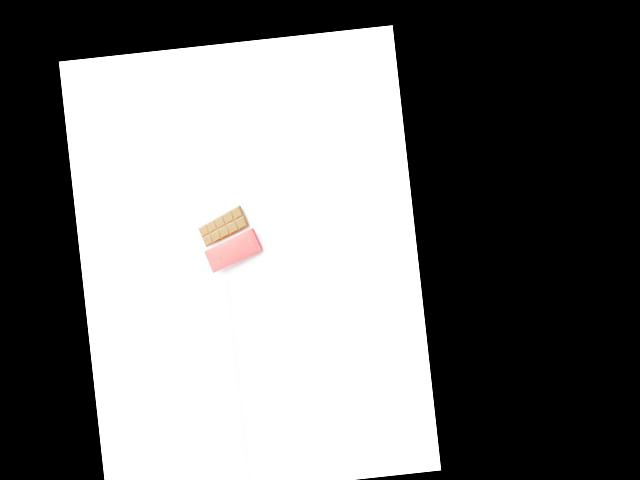chocolate: (195, 204, 253, 250)
